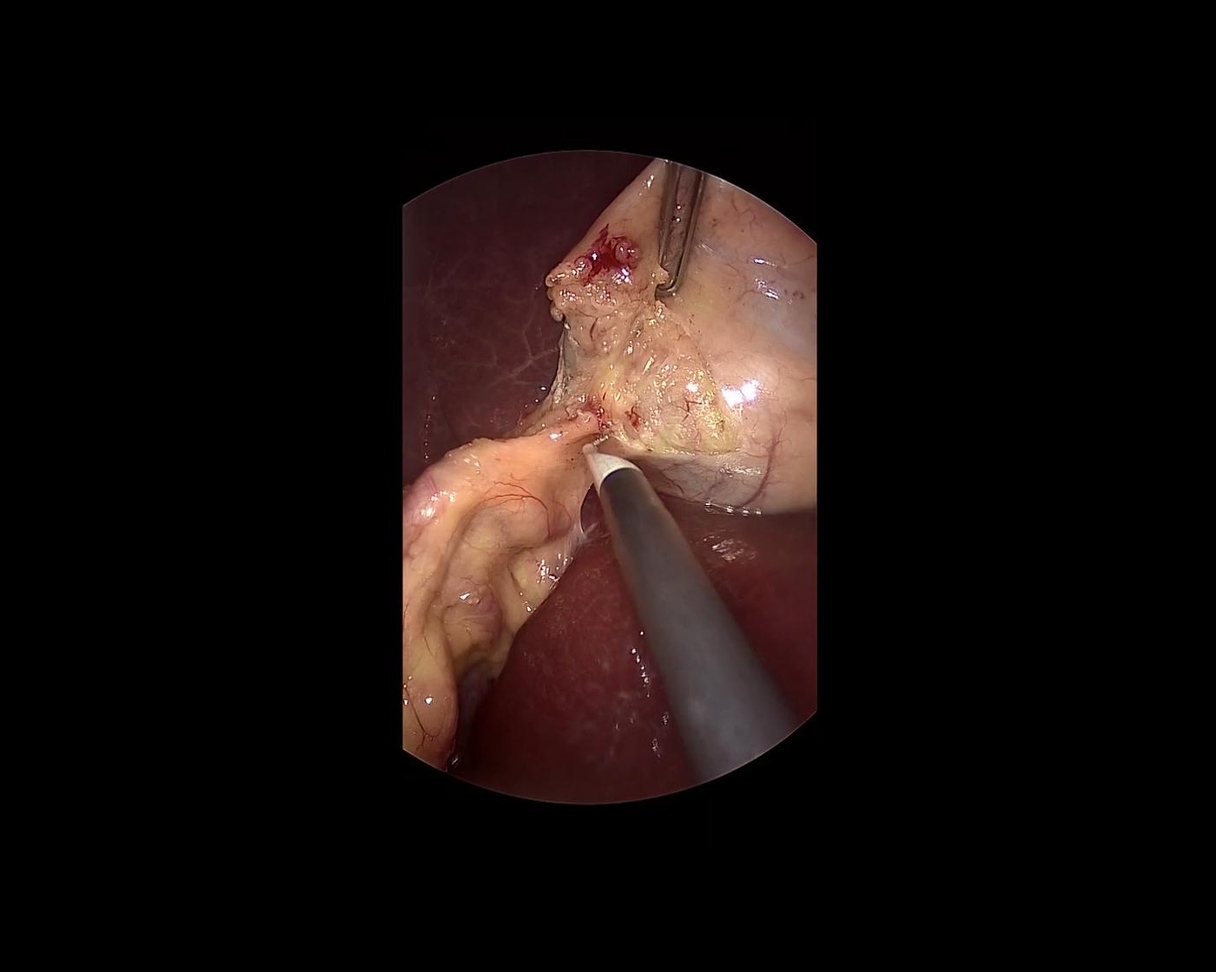Cautery: (545, 405, 808, 790)
Forceps: (646, 161, 704, 303)
Gallbladder: (542, 158, 815, 513)
Liver: (396, 147, 645, 491)
